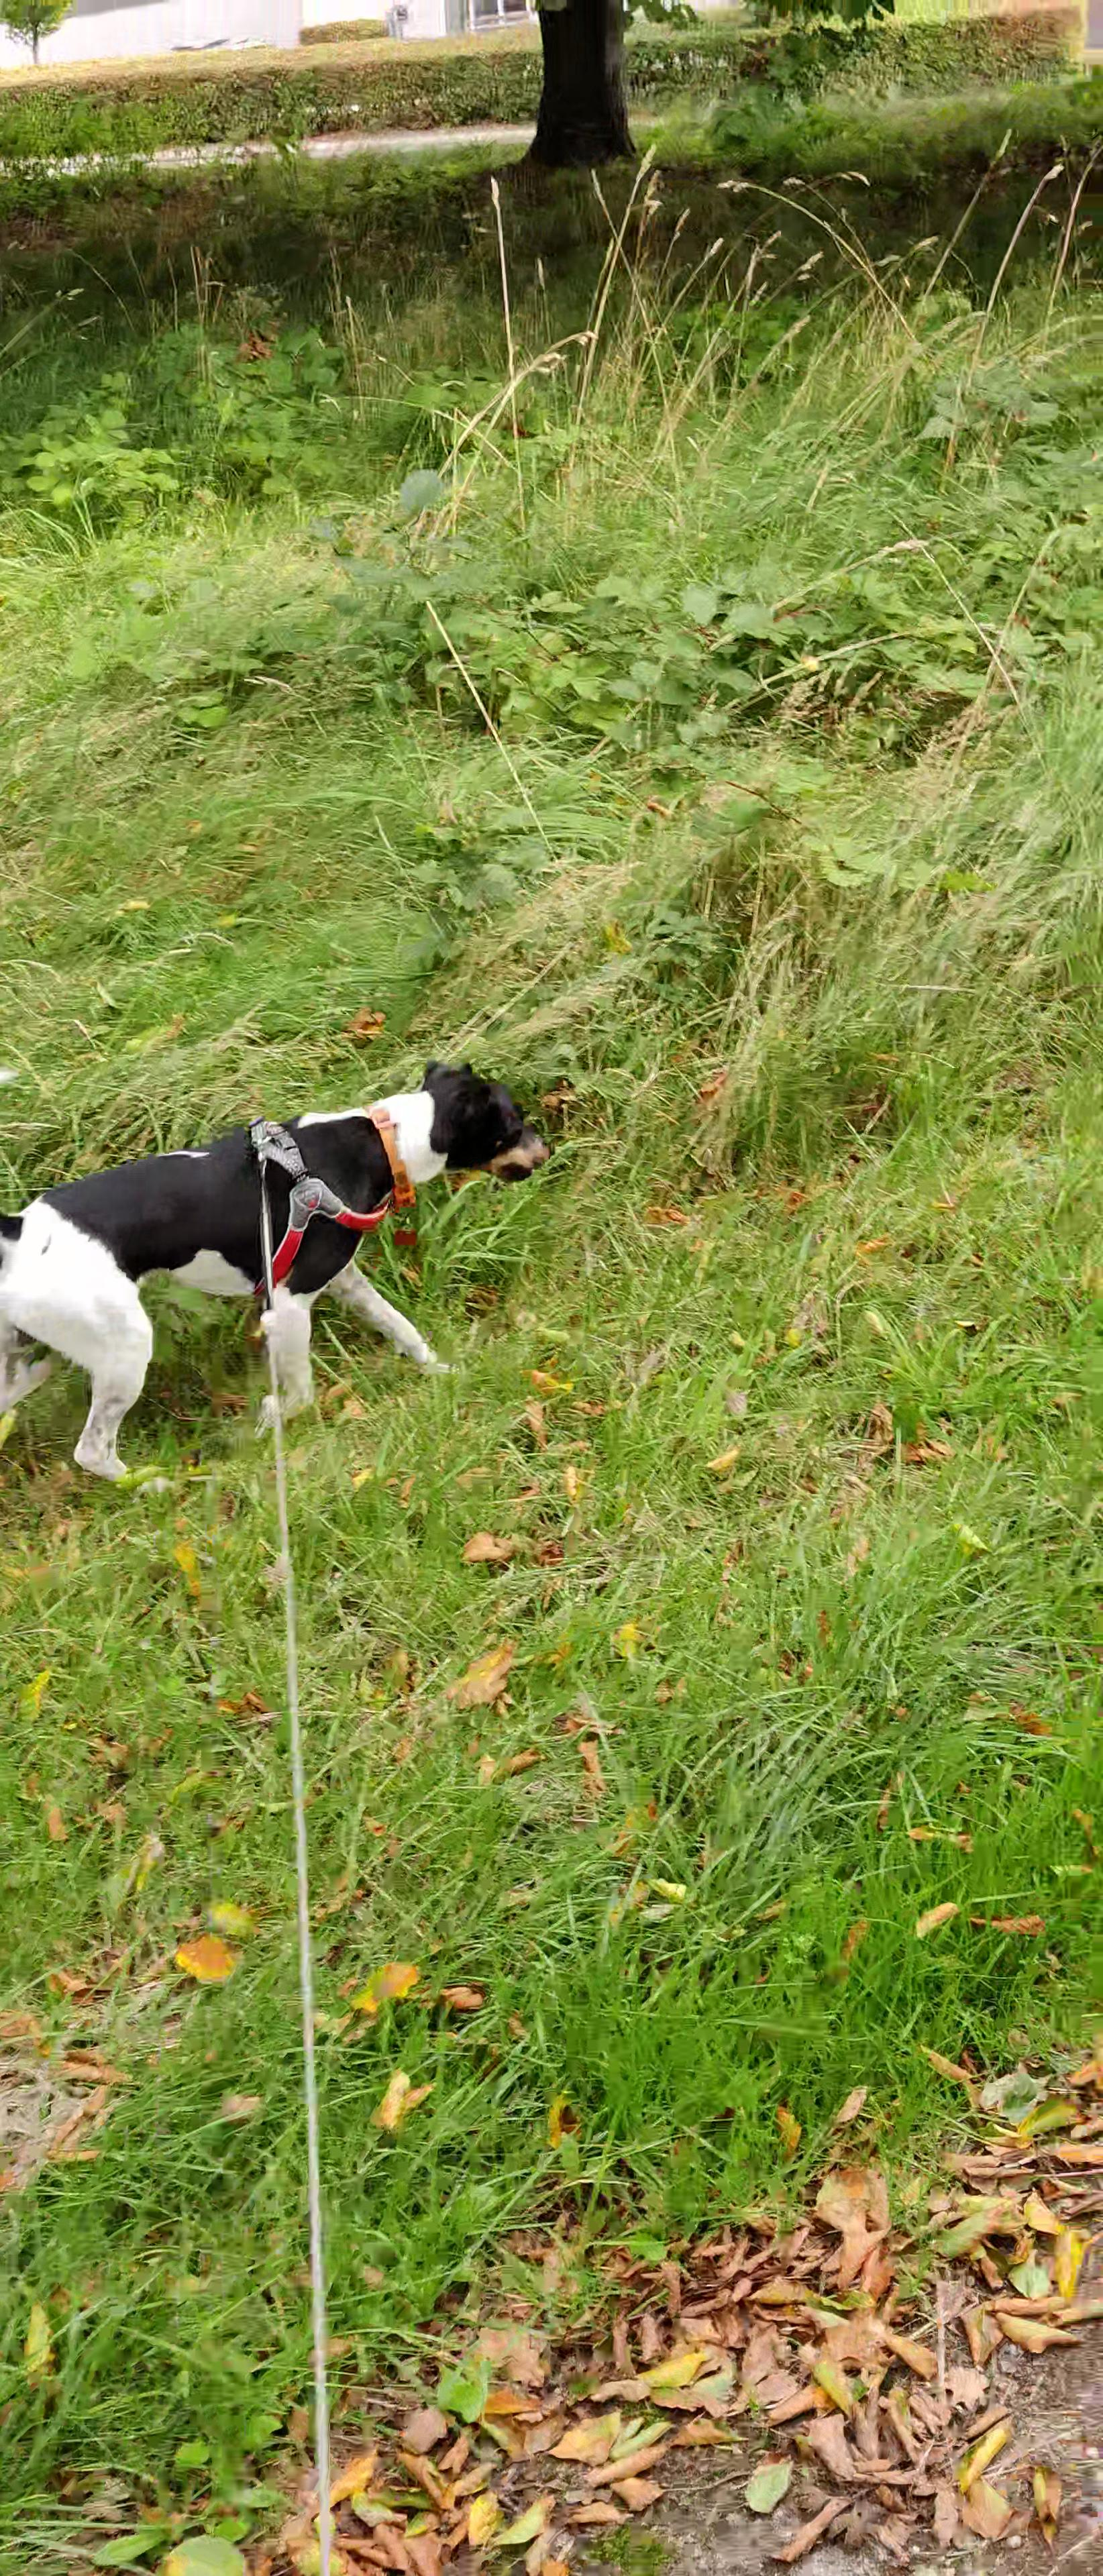Dog: (0, 1056, 562, 1498)
